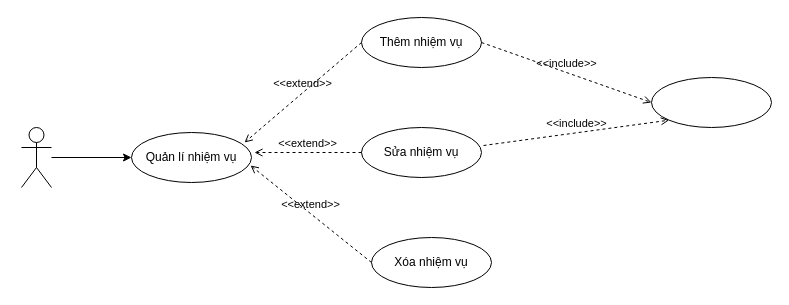
The diagram is 789 pixels wide and 305 high, and some of its shapes have lost their labels. The centre of each missing label's shape, as x and y in pixels:
"Danh sách thành viên" goes at pixel 711 102.
"Quản lí" goes at pixel 36 157.
